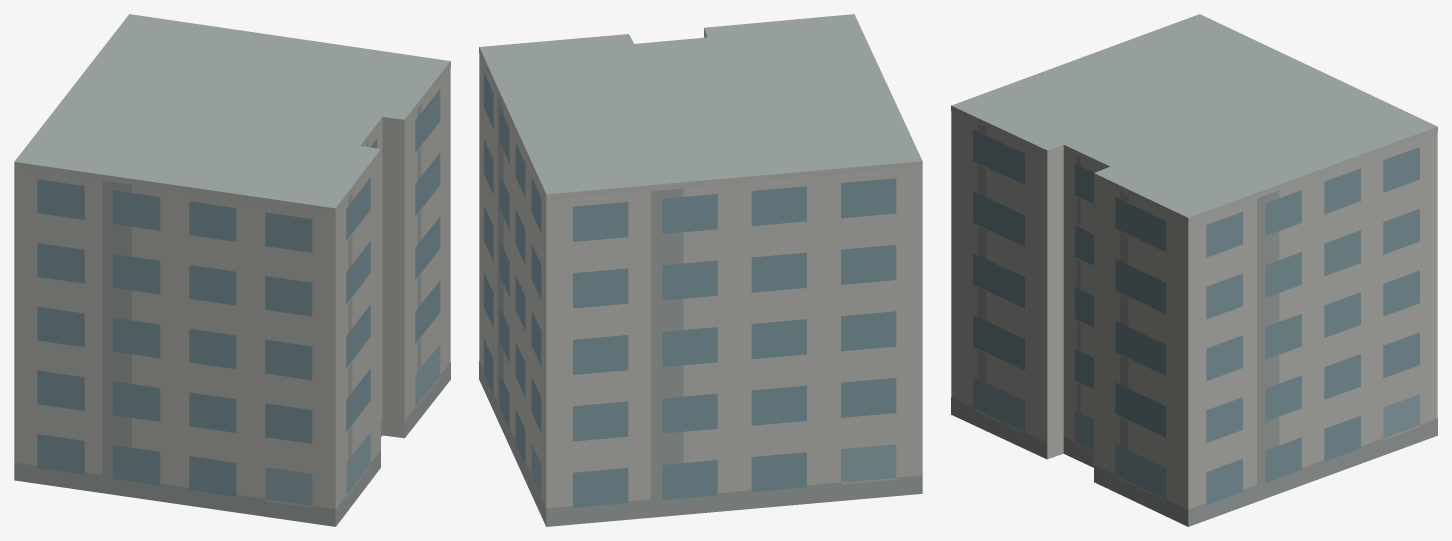
File: survey-upis-32889218.glb
3 renders of one model, left to right at view 1: azimuth 30°, elevation 25°; view 2: azimuth 150°, elevation 25°; view 3: azimuth 270°, elevation 25°, orthographic. The views are drawn at different scales.
Parts seen in each view (by area): view 1: survey-upis-32889218.tmp; view 2: survey-upis-32889218.tmp; view 3: survey-upis-32889218.tmp.
Boxes of the visible parts, <box> form: survey-upis-32889218.tmp: <box>14,14,450,526</box>; survey-upis-32889218.tmp: <box>479,14,922,526</box>; survey-upis-32889218.tmp: <box>951,14,1437,526</box>.
Bounding box in the file's own units: 18.68 × 13.2 × 18.84.
